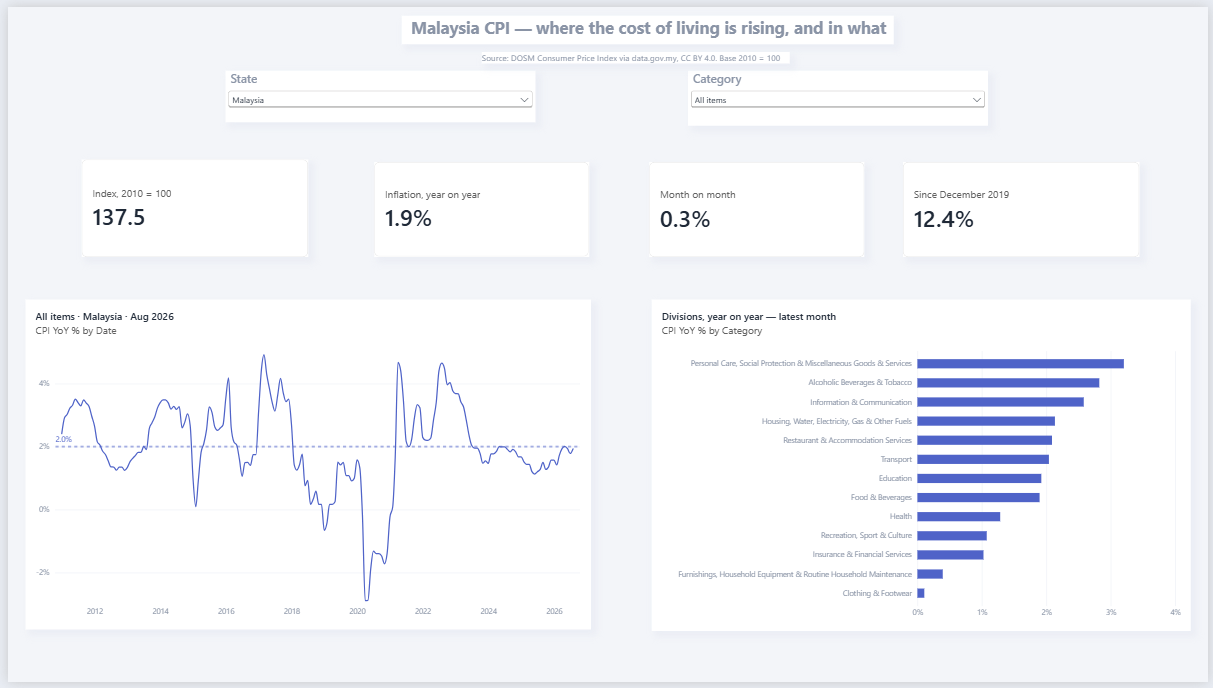

Layout of this report page (visuals, bound fields, positions):
{"tool":"powerbi","page":{"name":"Overview","canvas":[1920,1080],"ordinal":0},"visuals":[{"type":"slicer","fields":{"Values":["DimGeography.State"]},"box":[347.2,101.2,496,82],"z":0},{"type":"slicer","fields":{"Values":["DimCategory.Category"]},"box":[1087.2,101.2,480,88],"z":1000},{"type":"cardVisual","fields":{"Data":["Measures (2).CPI Since Dec 2019 %"]},"box":[1432,248,378,152],"z":2000},{"type":"cardVisual","fields":{"Data":["Measures (2).CPI YoY %"]},"box":[586,248,343.6,151.7],"z":3000},{"type":"cardVisual","fields":{"Data":["Measures (2).CPI MoM %"]},"box":[1026,248,344,152],"z":4000},{"type":"cardVisual","fields":{"Data":["Measures (2).CPI Latest"]},"box":[118,244,362,156],"z":5000},{"type":"lineChart","fields":{"Category":["DimDate.Date"],"Y":["Measures (2).CPI YoY %"]},"box":[28.3,468.3,905,528.3],"z":6000},{"type":"clusteredBarChart","title":"Divisions, year on year — latest month","fields":{"Category":["DimCategory.Category"],"Y":["Measures (2).CPI YoY %"]},"box":[1030,467.5,862.5,530],"z":7000},{"type":"textbox","box":[630,14.3,787.1,45.7],"z":8000},{"type":"textbox","box":[757.1,72.9,492.9,18.6],"z":9000}]}

Visuals, with their boxes in screenshot pixels (x1, y1, x2, y2), scaled from the page's 1920x1080 canvas onto the 1213x688 screenshot:
slicer - DimGeography.State: <box>219,64,533,117</box>
slicer - DimCategory.Category: <box>687,64,990,121</box>
cardVisual - Measures (2).CPI Since Dec 2019 %: <box>905,158,1144,255</box>
cardVisual - Measures (2).CPI YoY %: <box>370,158,587,255</box>
cardVisual - Measures (2).CPI MoM %: <box>648,158,866,255</box>
cardVisual - Measures (2).CPI Latest: <box>75,155,303,255</box>
lineChart - DimDate.Date x Measures (2).CPI YoY %: <box>18,298,590,635</box>
"Divisions, year on year — latest month" clusteredBarChart: <box>651,298,1196,635</box>
textbox: <box>398,9,895,38</box>
textbox: <box>478,46,790,58</box>
